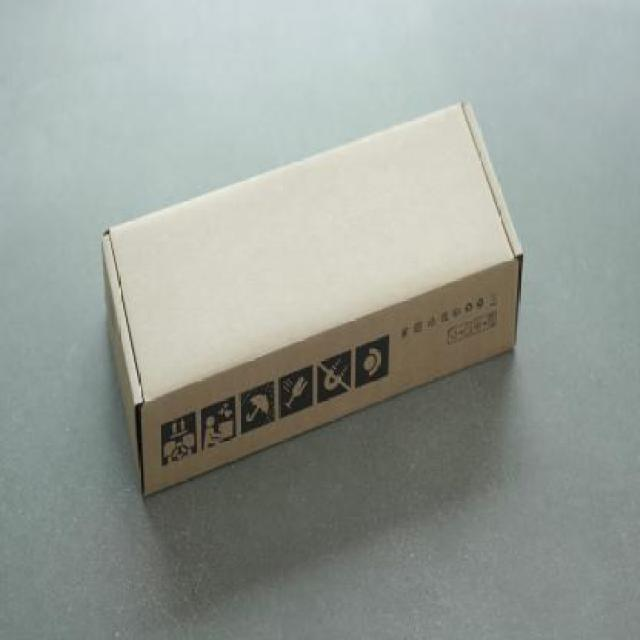box: (105, 97, 527, 503)
